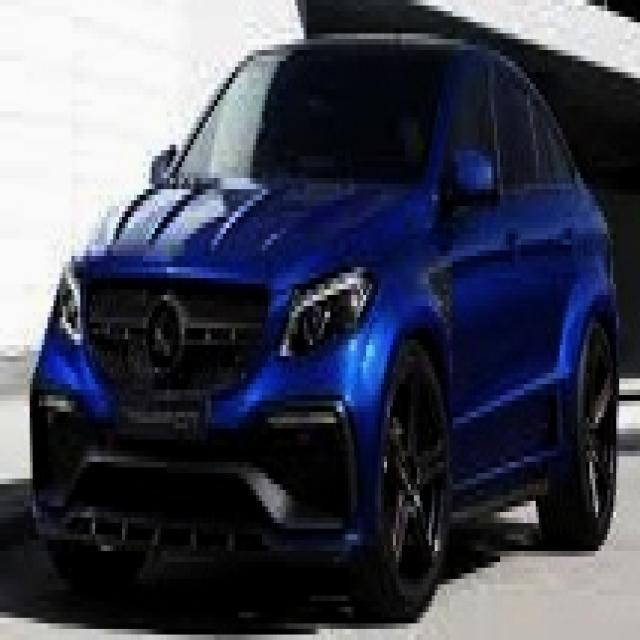blue: (28, 25, 622, 619)
